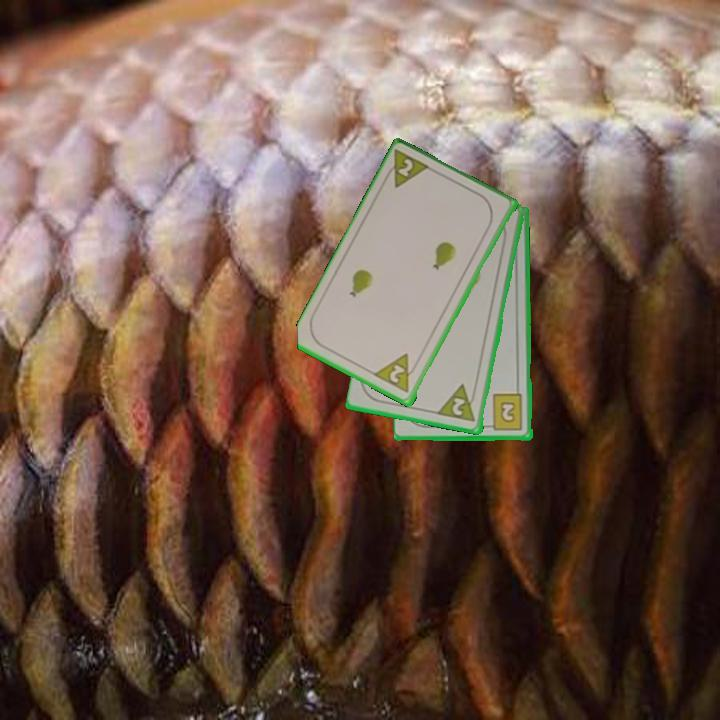2b: (484, 391, 526, 434)
2p: (380, 146, 434, 192), (372, 350, 421, 396), (435, 381, 480, 425)
